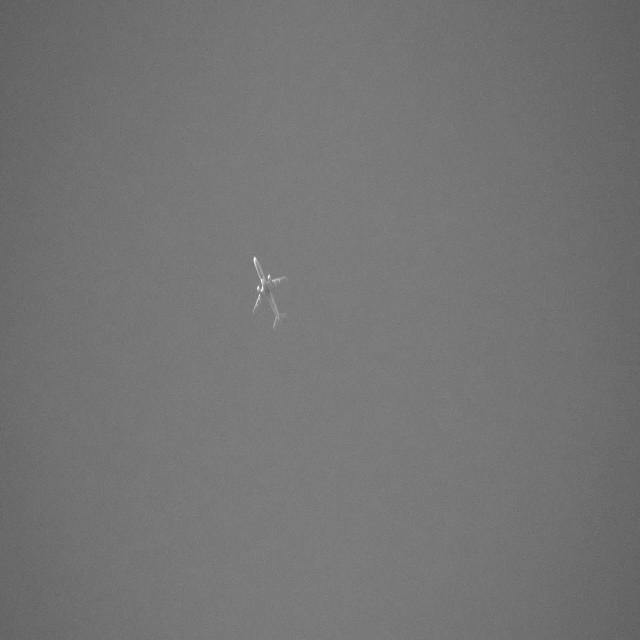aeroplane: (249, 249, 290, 331)
